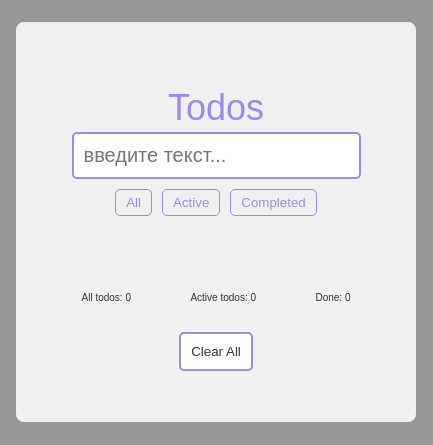
Test: remove todo
The image size is (433, 445).
# Добавляем новую задачу
In the field with placeholder "введите текст...": [216, 156] box [72, 132, 360, 179], type "New todo"
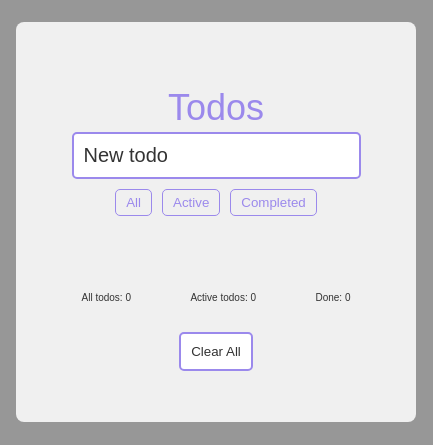
Submit the form from the field with placeholder "введите текст...", box [72, 132, 360, 179]
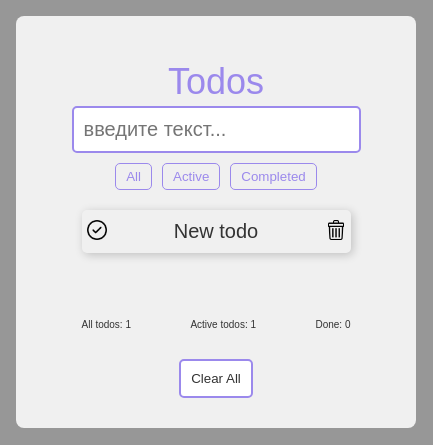
Check: the list item "New todo" is shown, box [82, 210, 350, 252]
# Находим кнопку удаления и кликаем по ней
Click the button "Clear All": [216, 378] box [179, 358, 253, 398]
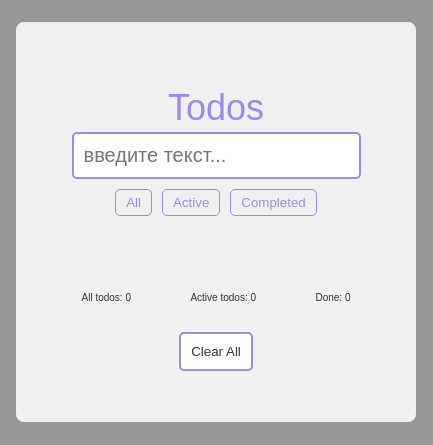
Check: the list item "New todo" is gone
